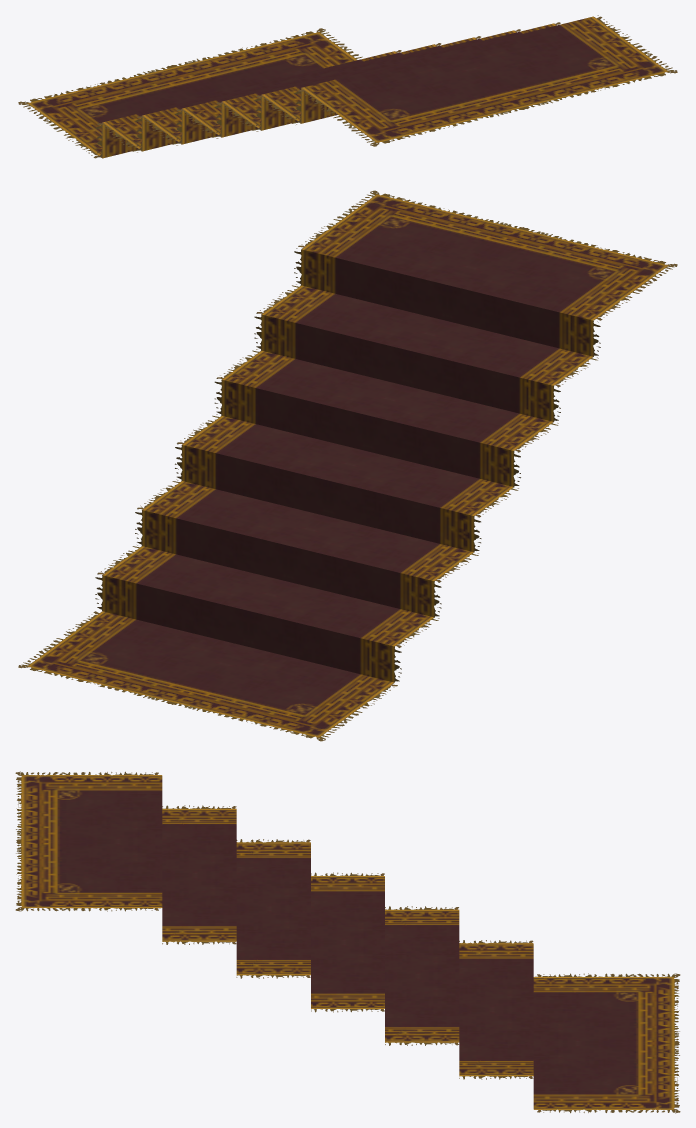
File: Carpet_St_TH_3.fbx
3 views of the same model, one above another, from view 1: azimuth 30°, elevation 25°; view 2: azimuth 150°, elevation 25°; view 3: azimuth 270°, elevation 25° (orthographic). The views are drawn at different scales.
Visible parts, largest first — view 1: polySurface7845; view 2: polySurface7845; view 3: polySurface7845.
Boxes of the visible parts, x1,y1,x2,y2 form: polySurface7845: (18, 15, 677, 158); polySurface7845: (18, 190, 677, 741); polySurface7845: (15, 771, 680, 1113).
Bounding box in the file's own units: 0.9 × 0.6 × 1.8.
